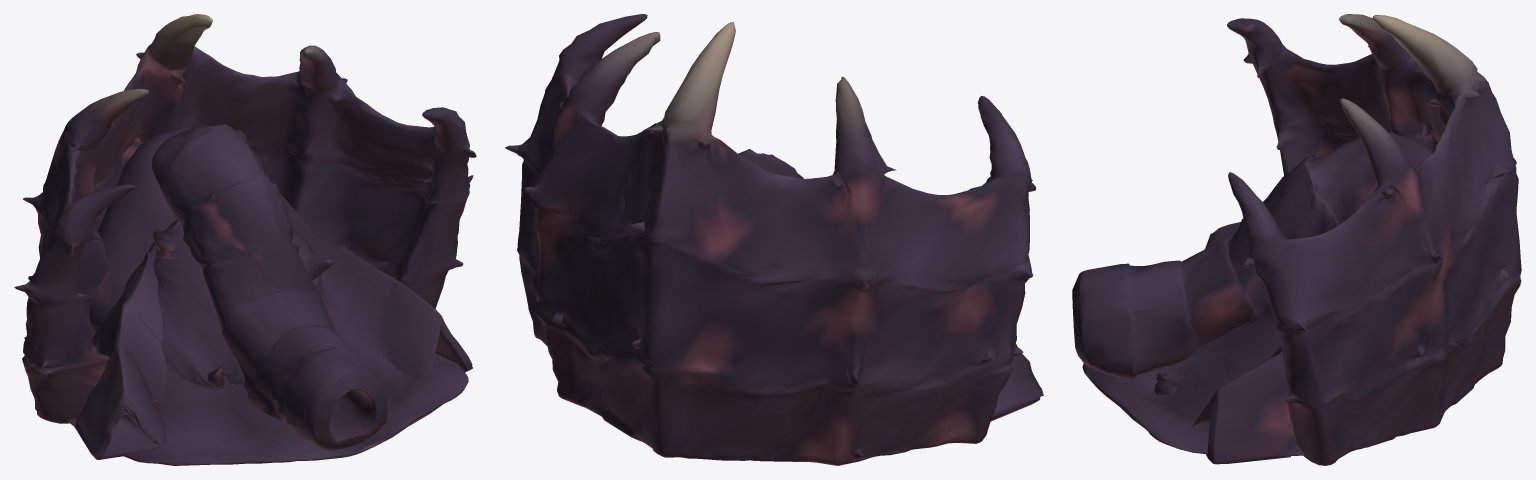
The model's file is hydralisk_den_oyvindtk.glb.
The picture shows the model from 3 angles, left to right: view 1: azimuth 30°, elevation 25°; view 2: azimuth 150°, elevation 25°; view 3: azimuth 270°, elevation 25°; orthographic projection. The views are drawn at different scales.
Visible parts, largest first — view 1: Zerg Hydralisk Den (Thingiverse); view 2: Zerg Hydralisk Den (Thingiverse); view 3: Zerg Hydralisk Den (Thingiverse).
Boxes of the visible parts, bbox=[...] form: Zerg Hydralisk Den (Thingiverse): bbox=[14, 14, 476, 465]; Zerg Hydralisk Den (Thingiverse): bbox=[505, 14, 1043, 465]; Zerg Hydralisk Den (Thingiverse): bbox=[1072, 14, 1521, 465].
Size of the model in its own units: 3 by 2.12 by 2.43.
